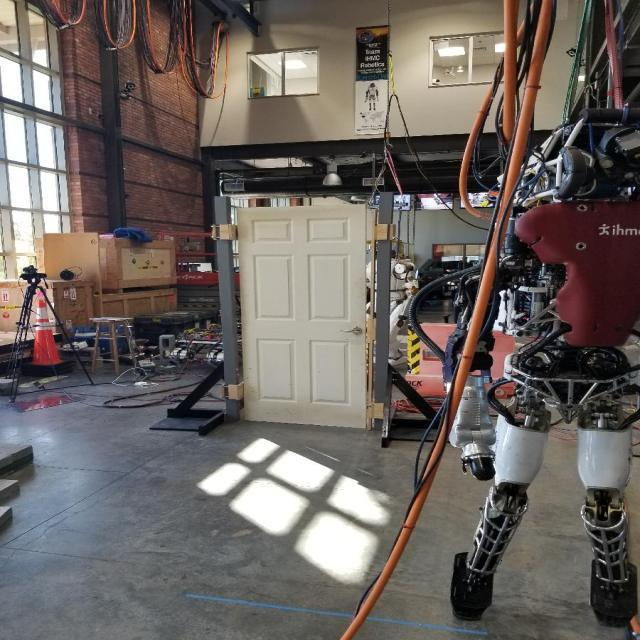door: (235, 202, 372, 432), (342, 322, 366, 337)
